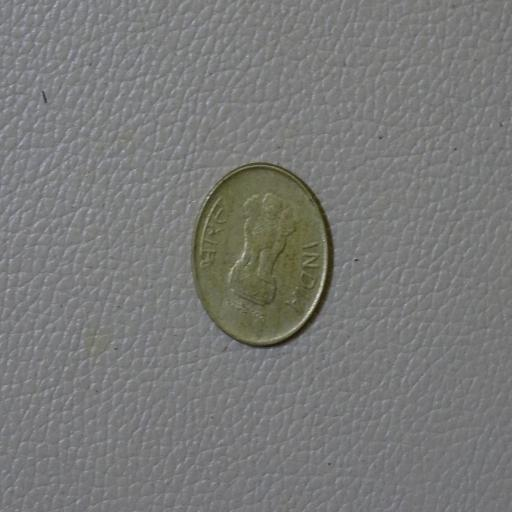rupee5: (190, 162, 334, 347)
